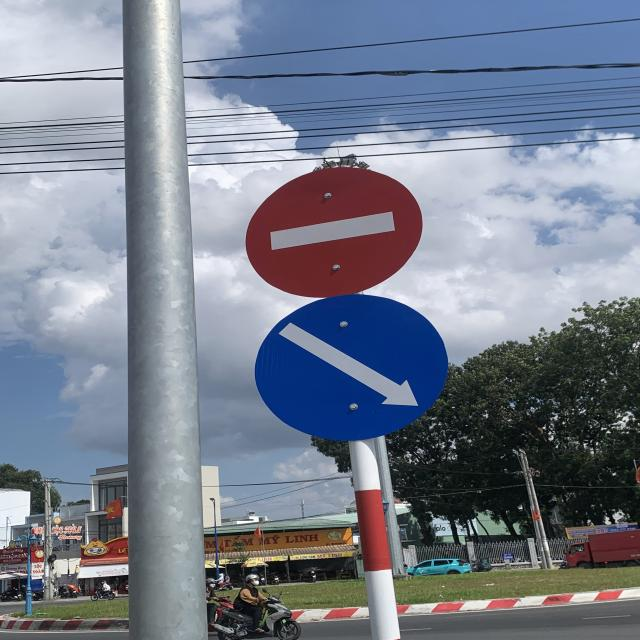Cam_Di_Nguoc_Chieu: (244, 167, 424, 300)
Chi_Huong_Di_Phai: (255, 292, 449, 444)
